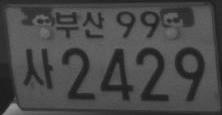2: (135, 45, 169, 102), (61, 46, 95, 100)
4: (99, 47, 133, 100)
9: (173, 45, 205, 102), (116, 10, 136, 38), (140, 10, 160, 38)
부산_H: (54, 11, 105, 39)
사: (22, 47, 54, 89)
